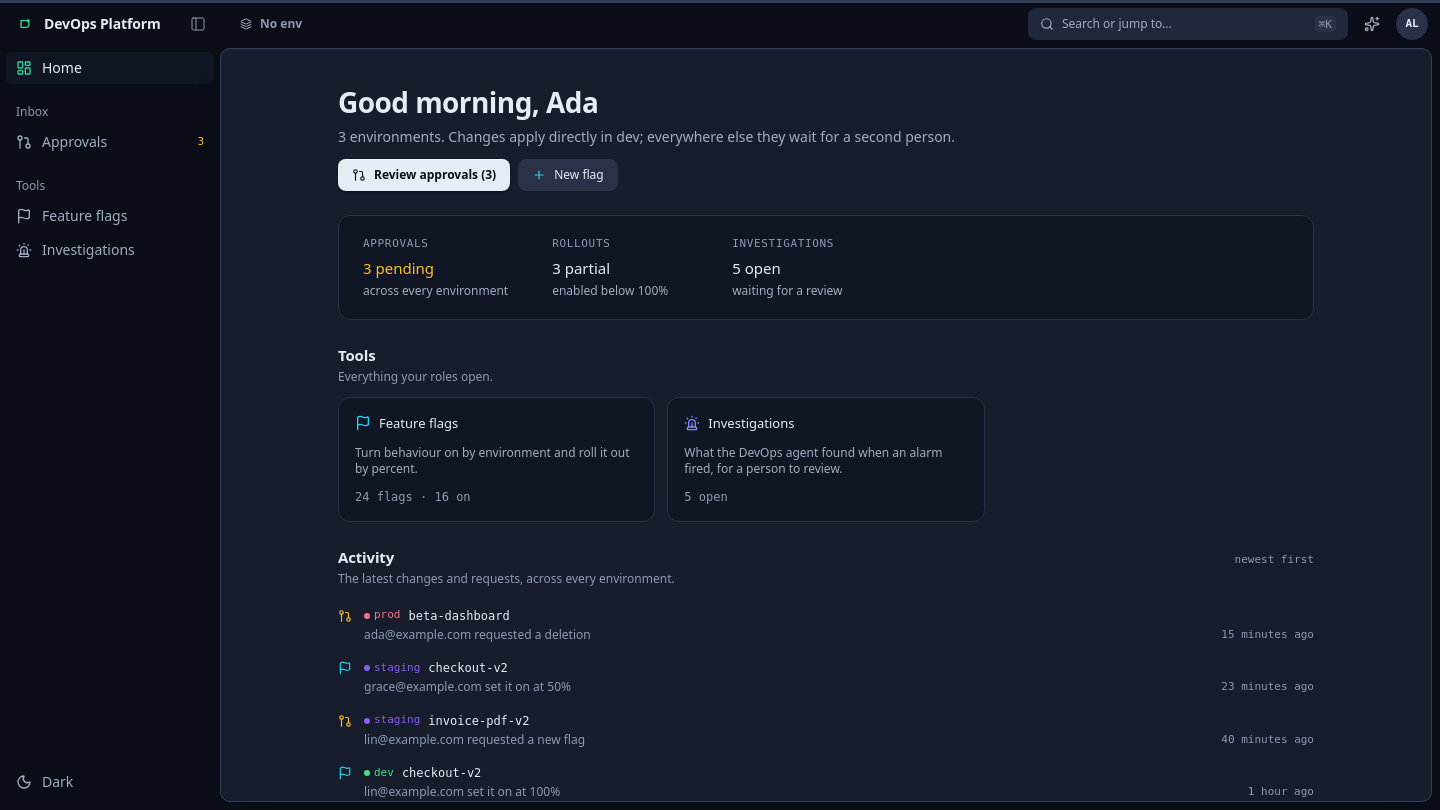
Test case: the shell › keeps the assistant dock closed until the top bar opens it
Expected: the element "Assistant" is not shown
Click the button named "Open assistant" at (1372, 24), box top-left (1356, 8), bottom-right (1388, 40)
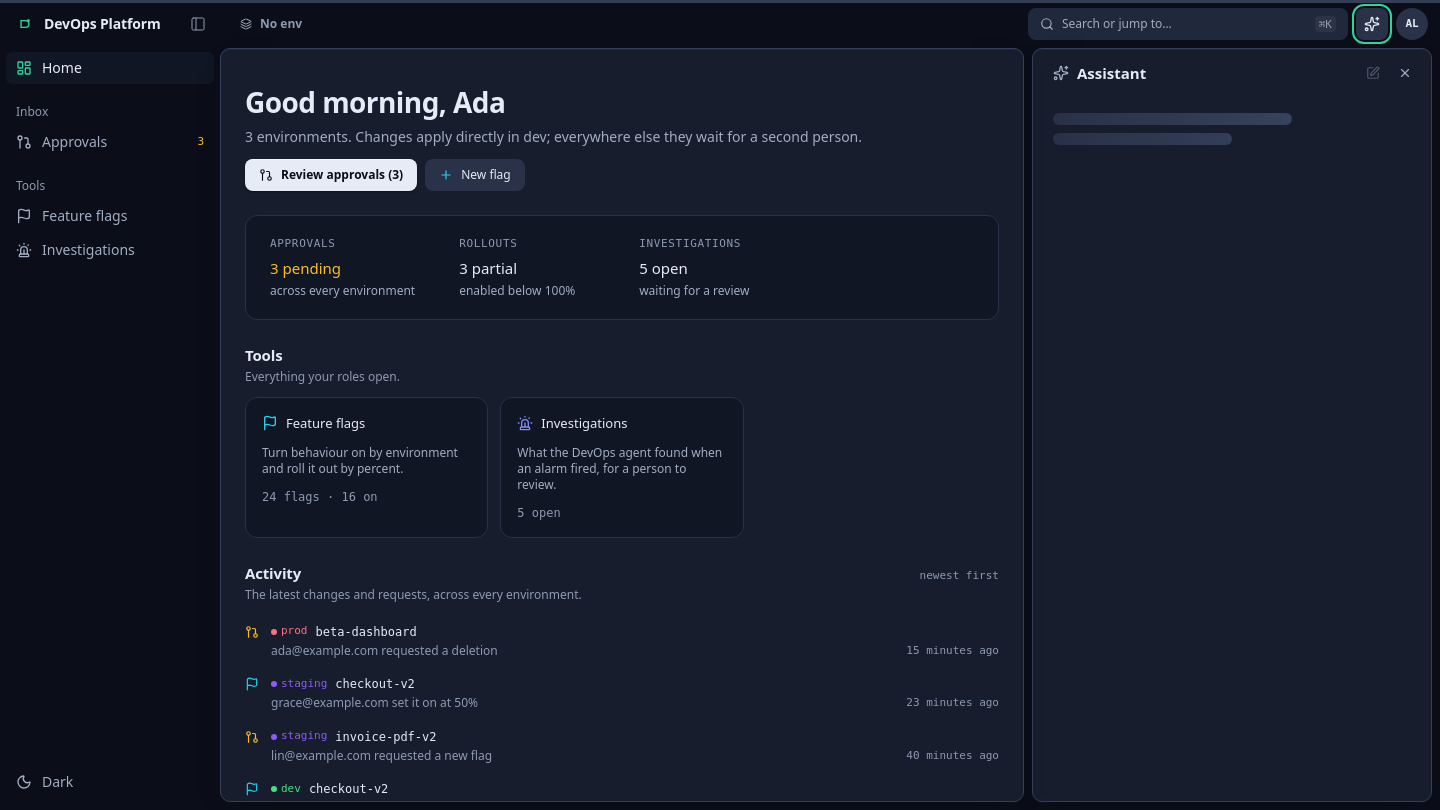
Now the element "Assistant" is shown, box top-left (1032, 48), bottom-right (1432, 802)
Click the 1st button named "Close assistant" at (1372, 24), box top-left (1356, 8), bottom-right (1388, 40)
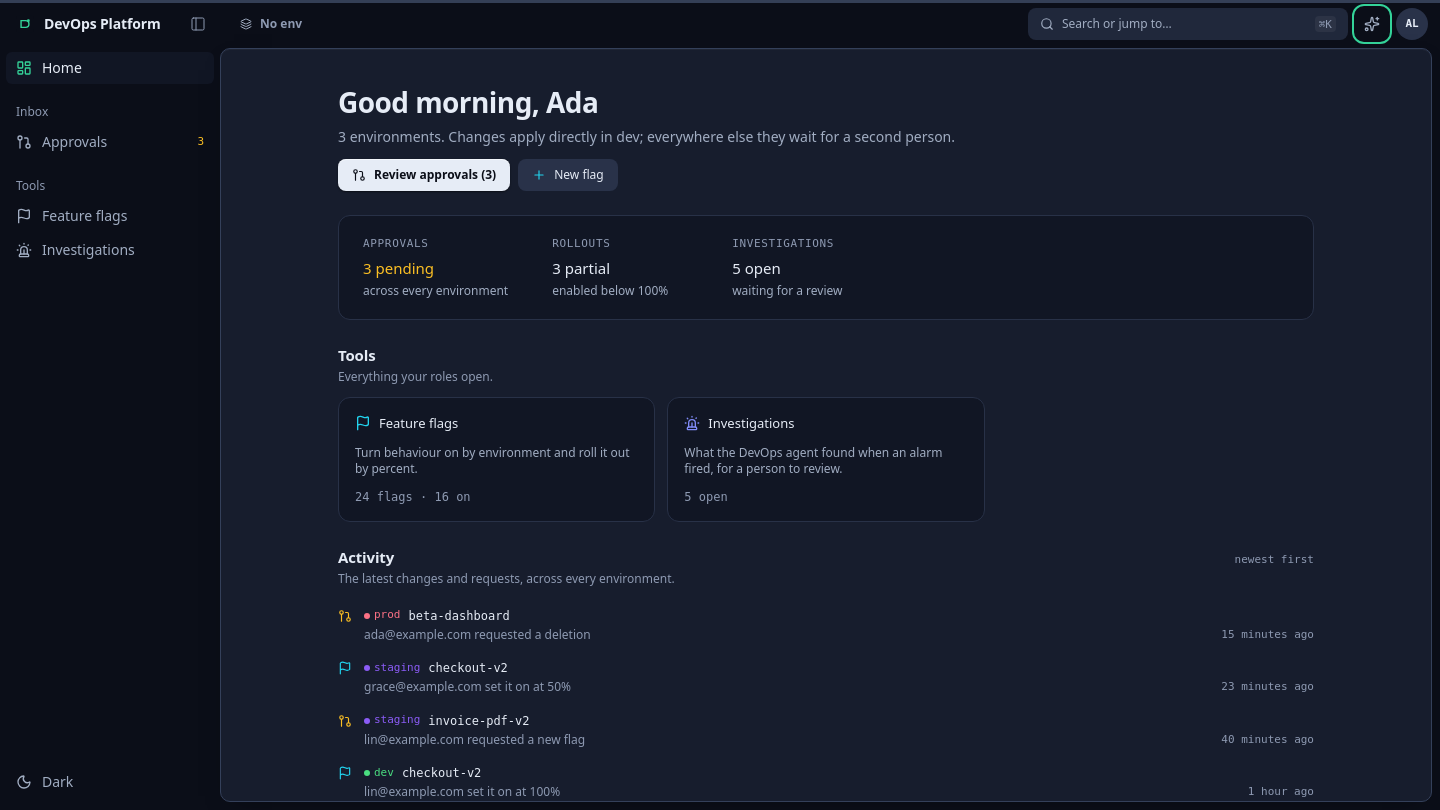
Now the heading "Assistant" is gone
